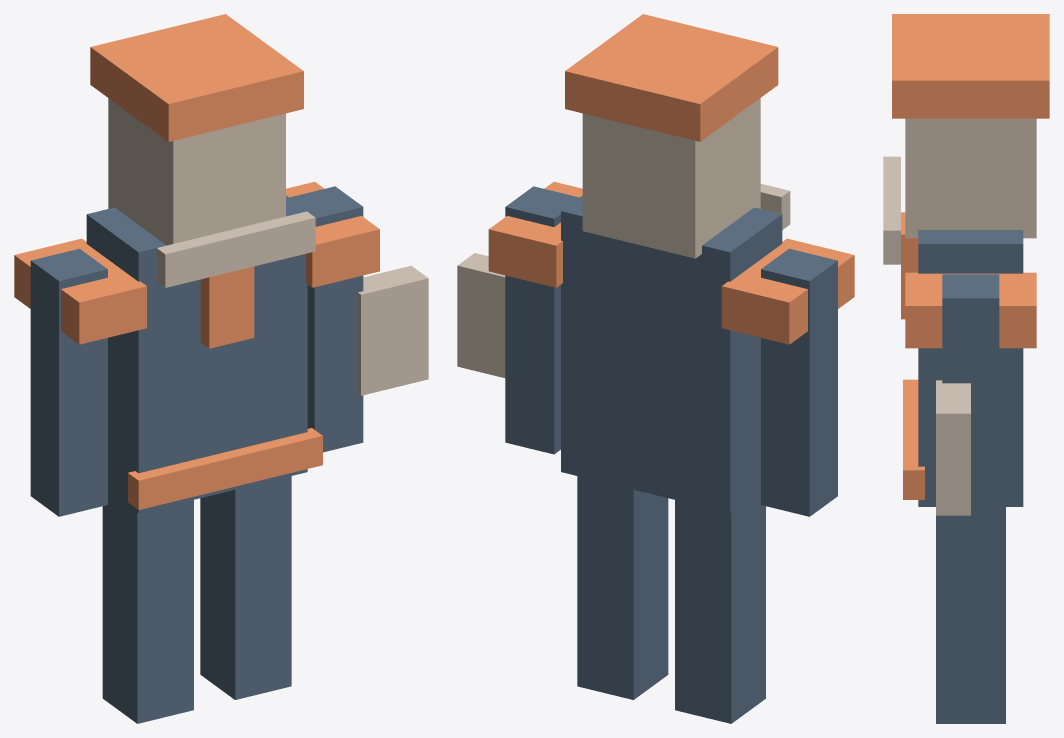
Rendered from 16_makoa_trenchmark_broker_near_customs.glb.
The picture shows the model from 3 angles, left to right: view 1: azimuth 30°, elevation 25°; view 2: azimuth 150°, elevation 25°; view 3: azimuth 270°, elevation 25°; orthographic projection.
Parts seen in each view (by area): view 1: Makoa Trenchmark, Broker near Customs; view 2: Makoa Trenchmark, Broker near Customs; view 3: Makoa Trenchmark, Broker near Customs.
Part boxes in pixels (x1=…): Makoa Trenchmark, Broker near Customs: x1=14, y1=14, x2=428, y2=723; Makoa Trenchmark, Broker near Customs: x1=457, y1=14, x2=854, y2=723; Makoa Trenchmark, Broker near Customs: x1=883, y1=14, x2=1049, y2=723.
Bounding box in the file's own units: 1.03 × 1.71 × 0.4029.
